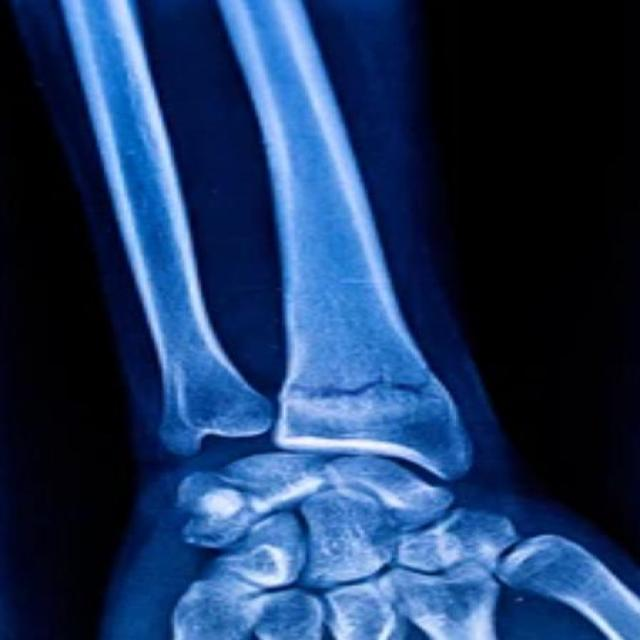bone: (256, 359, 464, 426)
